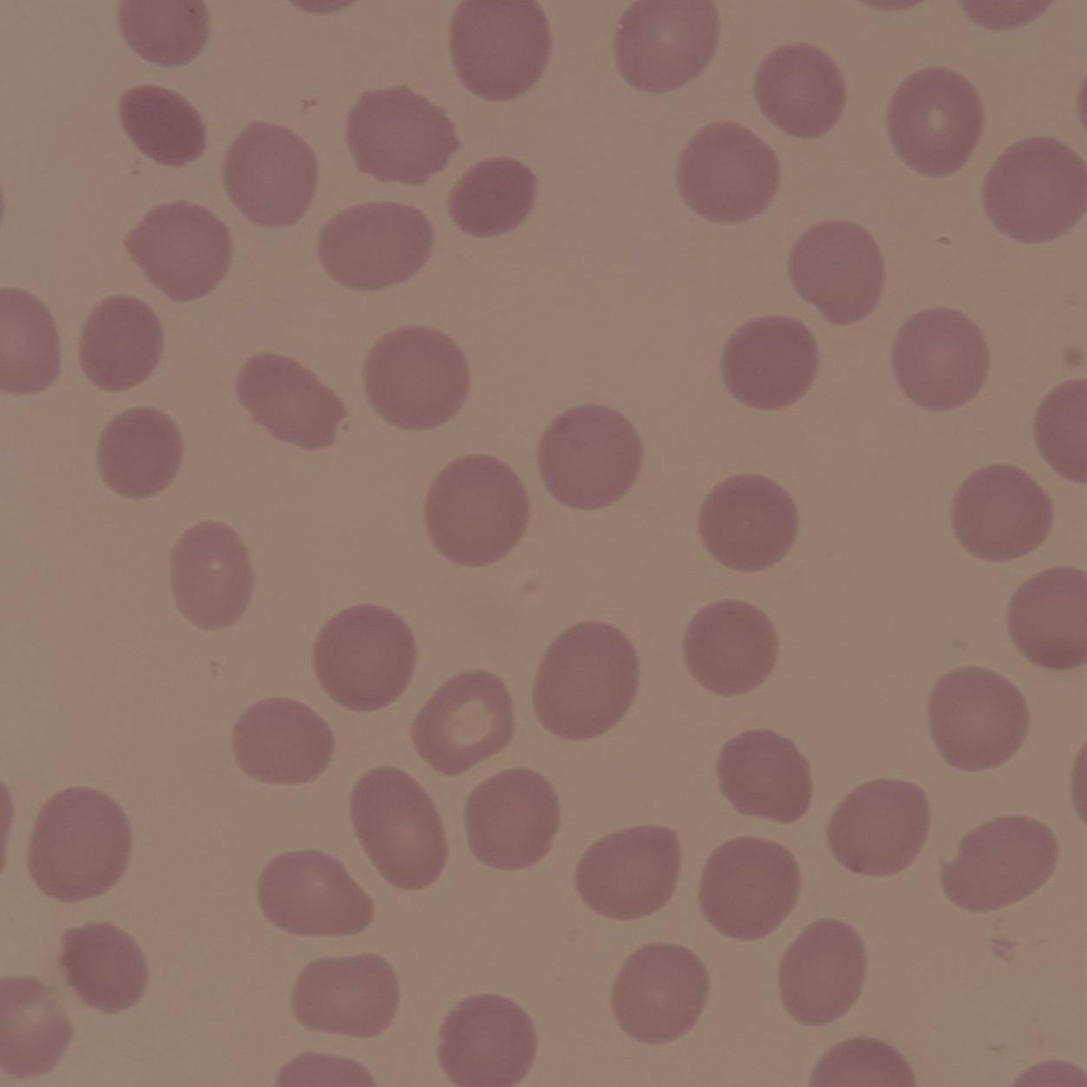Uninfected: (531, 621, 641, 740), (421, 453, 530, 565), (350, 767, 449, 889), (28, 785, 131, 902), (939, 814, 1056, 912), (980, 134, 1087, 240), (313, 603, 418, 710), (362, 325, 470, 429), (234, 350, 346, 450), (346, 86, 460, 183), (123, 198, 231, 300), (538, 404, 643, 508), (885, 64, 985, 173), (317, 200, 434, 293), (677, 120, 781, 224), (412, 672, 515, 774), (889, 305, 989, 410), (926, 666, 1025, 772), (697, 837, 800, 938), (254, 849, 372, 937), (574, 823, 682, 919), (948, 462, 1050, 563), (697, 472, 799, 572), (609, 942, 709, 1044), (827, 778, 931, 876), (447, 1, 553, 97), (221, 119, 319, 221), (462, 768, 560, 870), (612, 0, 720, 91), (787, 219, 884, 320), (776, 919, 868, 1024), (720, 313, 819, 410), (682, 600, 780, 697), (168, 521, 256, 628), (715, 727, 813, 823), (436, 993, 537, 1084), (290, 954, 398, 1039), (230, 696, 332, 785), (754, 43, 848, 137), (95, 405, 186, 499), (80, 293, 168, 389), (1004, 566, 1086, 668), (60, 920, 149, 1011), (117, 82, 209, 168), (448, 155, 537, 237), (0, 982, 69, 1072)
